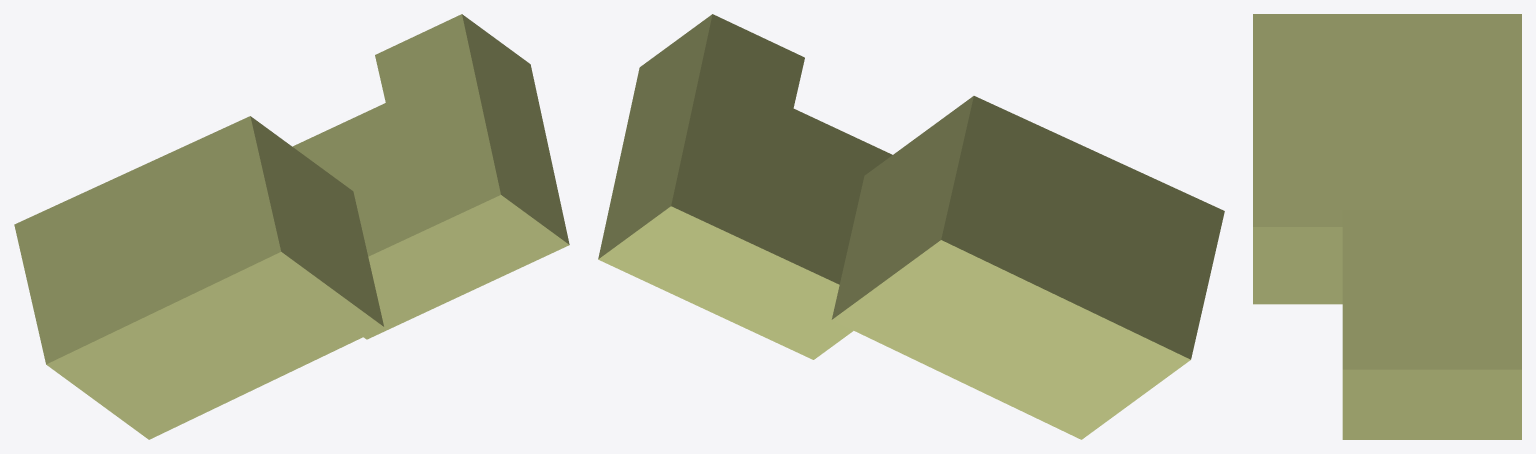
3 views of the same model, side by side, from view 1: azimuth 30°, elevation 25°; view 2: azimuth 150°, elevation 25°; view 3: azimuth 270°, elevation 25° (orthographic). The views are drawn at different scales.
Parts seen in each view (by area): view 1: 0_1_2_0_3_3_0_3_2_0; view 2: 0_1_2_0_3_3_0_3_2_0; view 3: 0_1_2_0_3_3_0_3_2_0.
Part boxes in pixels (x1=…): 0_1_2_0_3_3_0_3_2_0: x1=14, y1=14, x2=569, y2=439; 0_1_2_0_3_3_0_3_2_0: x1=598, y1=14, x2=1224, y2=439; 0_1_2_0_3_3_0_3_2_0: x1=1253, y1=14, x2=1521, y2=439.
Bounding box in the file's own units: 24.55 × 12.01 × 9.
